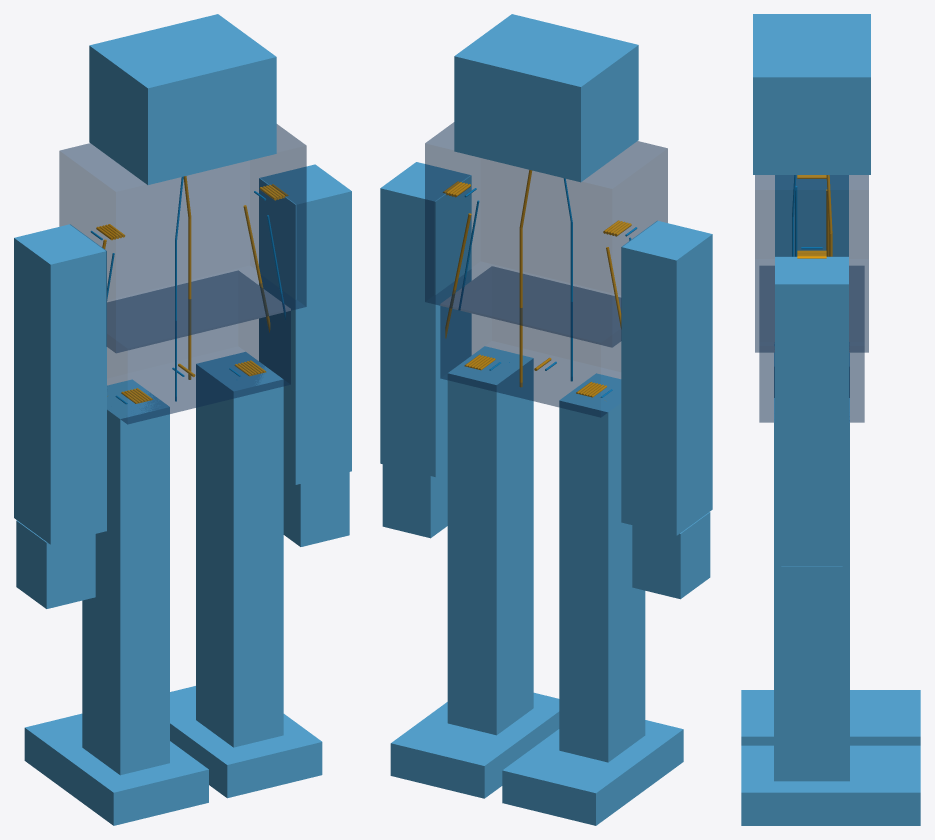
Rendered from HR30_whole_body_harness_centerlines_candidate.glb.
3 renders of one model, left to right at view 1: azimuth 30°, elevation 25°; view 2: azimuth 150°, elevation 25°; view 3: azimuth 270°, elevation 25°, orthographic. The views are drawn at different scales.
Visible parts, largest first — view 1: BODY-TORSO, BODY-LEFT-LEG, BODY-RIGHT-LEG, BODY-RIGHT-ARM, BODY-HEAD, BODY-LEFT-ARM, BODY-PELVIS, BODY-RIGHT-FOOT, BODY-LEFT-FOOT, BODY-RIGHT-HAND, BODY-LEFT-HAND; view 2: BODY-TORSO, BODY-LEFT-LEG, BODY-RIGHT-LEG, BODY-RIGHT-ARM, BODY-HEAD, BODY-LEFT-ARM, BODY-PELVIS, BODY-RIGHT-FOOT, BODY-LEFT-FOOT, BODY-RIGHT-HAND, BODY-LEFT-HAND, ROUTE-HN01_TORSO_POWER_SPINE; view 3: BODY-LEFT-ARM, BODY-HEAD, BODY-TORSO, BODY-LEFT-LEG, BODY-LEFT-FOOT, BODY-RIGHT-FOOT, BODY-RIGHT-ARM, BODY-PELVIS, BODY-LEFT-HAND.
Part boxes in pixels (<box>): BODY-TORSO: <box>59,124,306,353</box>; BODY-LEFT-LEG: <box>196,352,283,747</box>; BODY-RIGHT-LEG: <box>82,379,169,775</box>; BODY-RIGHT-ARM: <box>14,224,106,544</box>; BODY-HEAD: <box>89,14,276,184</box>; BODY-LEFT-ARM: <box>259,164,351,484</box>; BODY-PELVIS: <box>107,270,290,424</box>; BODY-RIGHT-FOOT: <box>24,713,208,825</box>; BODY-LEFT-FOOT: <box>170,686,322,798</box>; BODY-RIGHT-HAND: <box>16,520,95,608</box>; BODY-LEFT-HAND: <box>283,472,349,546</box>; BODY-TORSO: <box>425,122,667,347</box>; BODY-LEFT-LEG: <box>447,346,533,735</box>; BODY-RIGHT-LEG: <box>559,373,645,762</box>; BODY-RIGHT-ARM: <box>621,220,712,535</box>; BODY-HEAD: <box>454,14,638,182</box>; BODY-LEFT-ARM: <box>380,162,471,476</box>; BODY-PELVIS: <box>440,266,621,417</box>; BODY-RIGHT-FOOT: <box>502,720,683,825</box>; BODY-LEFT-FOOT: <box>390,692,559,798</box>; BODY-RIGHT-HAND: <box>632,512,710,599</box>; BODY-LEFT-HAND: <box>382,464,447,538</box>; ROUTE-HN01_TORSO_POWER_SPINE: <box>519,228,522,387</box>; BODY-LEFT-ARM: <box>775,256,848,566</box>; BODY-HEAD: <box>753,14,870,174</box>; BODY-TORSO: <box>755,175,868,352</box>; BODY-LEFT-LEG: <box>774,398,849,781</box>; BODY-LEFT-FOOT: <box>741,745,920,825</box>; BODY-RIGHT-FOOT: <box>741,690,920,745</box>; BODY-RIGHT-ARM: <box>775,175,848,256</box>; BODY-PELVIS: <box>759,266,864,422</box>; BODY-LEFT-HAND: <box>781,566,842,633</box>.
Size of the model in its own units: 334 by 762 by 170.
